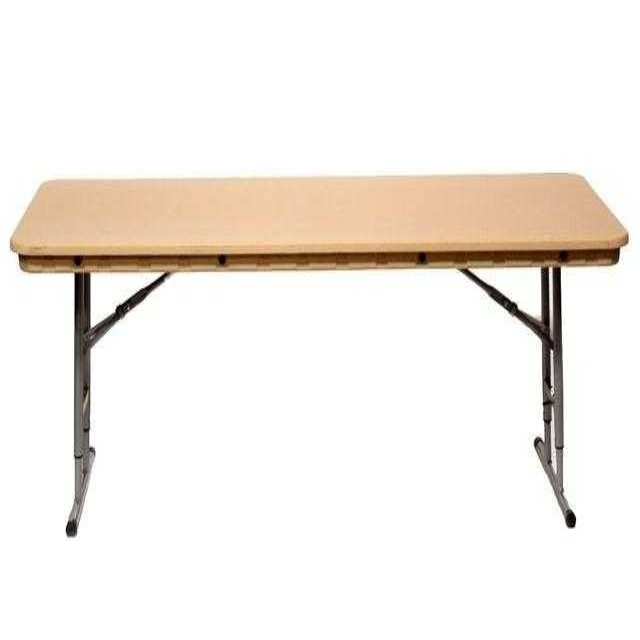obstacle: (11, 174, 627, 535)
